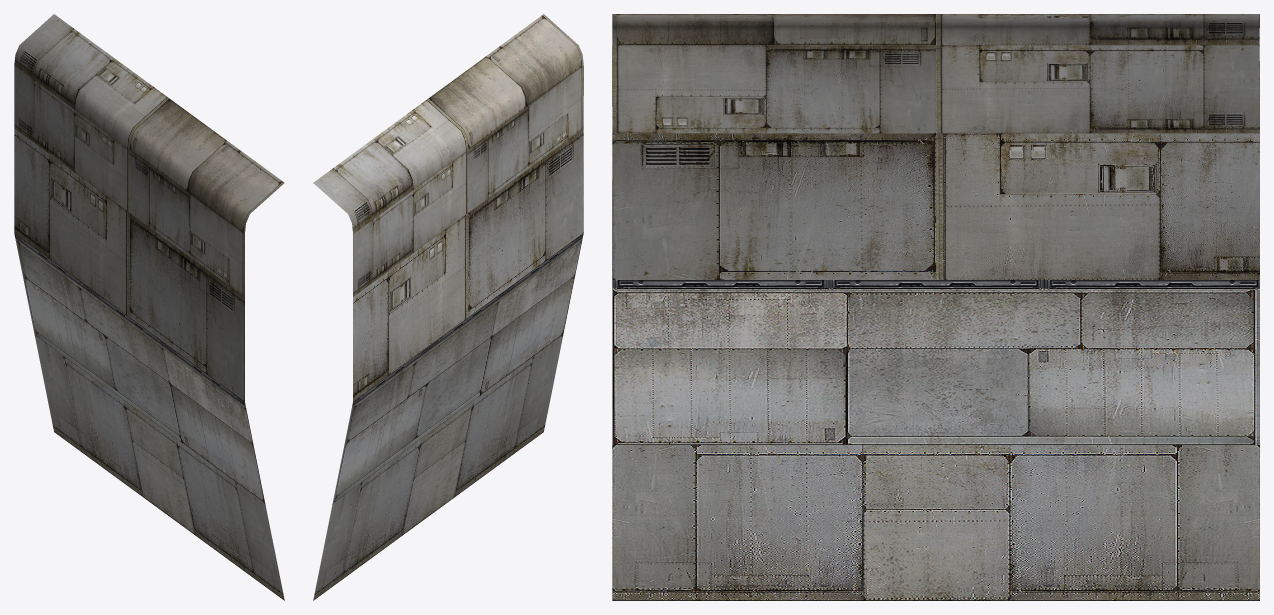
File: Wall_I_Giant10mts_07.fbx
3 renders of one model, left to right at view 1: azimuth 30°, elevation 25°; view 2: azimuth 150°, elevation 25°; view 3: azimuth 270°, elevation 25°, orthographic. The views are drawn at different scales.
Visible parts, largest first — view 1: Wall_I_Giant10mts_07; view 2: Wall_I_Giant10mts_07; view 3: Wall_I_Giant10mts_07.
Boxes of the visible parts, x1,y1,x2,y2 form: Wall_I_Giant10mts_07: (14,14,284,600); Wall_I_Giant10mts_07: (313,14,583,600); Wall_I_Giant10mts_07: (612,14,1259,600).
Bounding box in the file's own units: 200 × 2000 × 2001.
2 materials, 2 textured.
